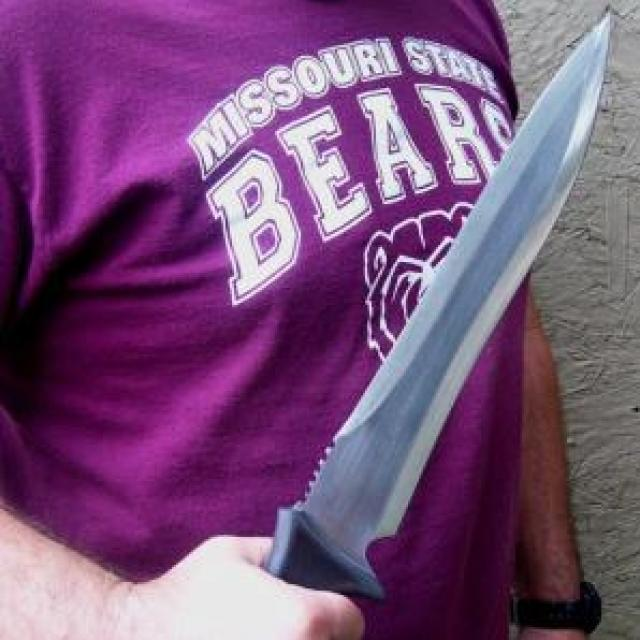knife: (210, 6, 623, 640)
